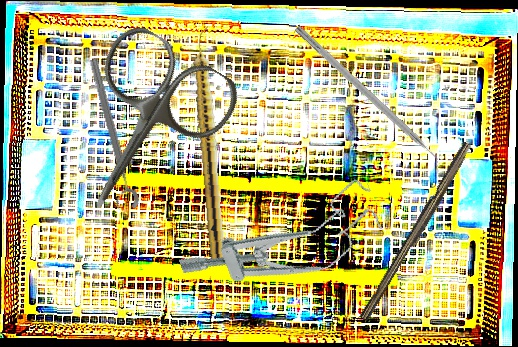Chopper: (287, 25, 448, 177)
Fixation Ring: (77, 57, 141, 213)
Handpiece: (189, 25, 231, 265)
Iris Scissors: (37, 18, 247, 242)
Scalpel Handle: (359, 139, 475, 325)
Speculum: (172, 174, 392, 317)
